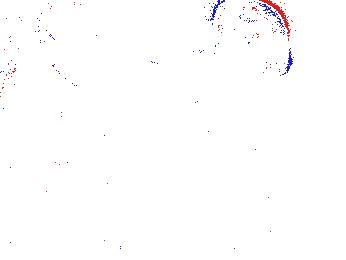moon jellyfish: (38, 5, 158, 93), (107, 3, 227, 58), (213, 1, 292, 77)
